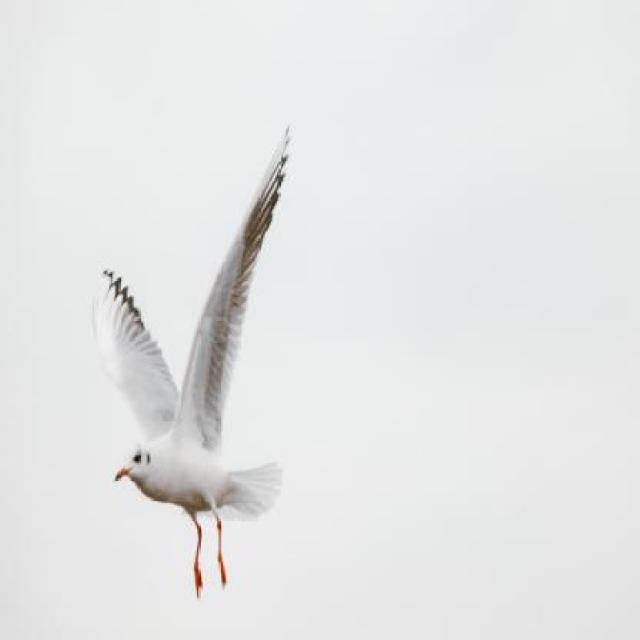bird: (94, 130, 292, 602)
